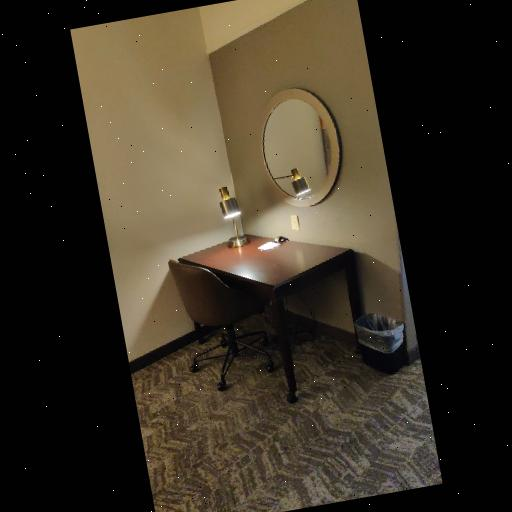chair: (158, 245, 256, 399)
clean_floor: (134, 347, 440, 512)
lamp: (208, 180, 253, 254)
organized table: (179, 231, 365, 403)
